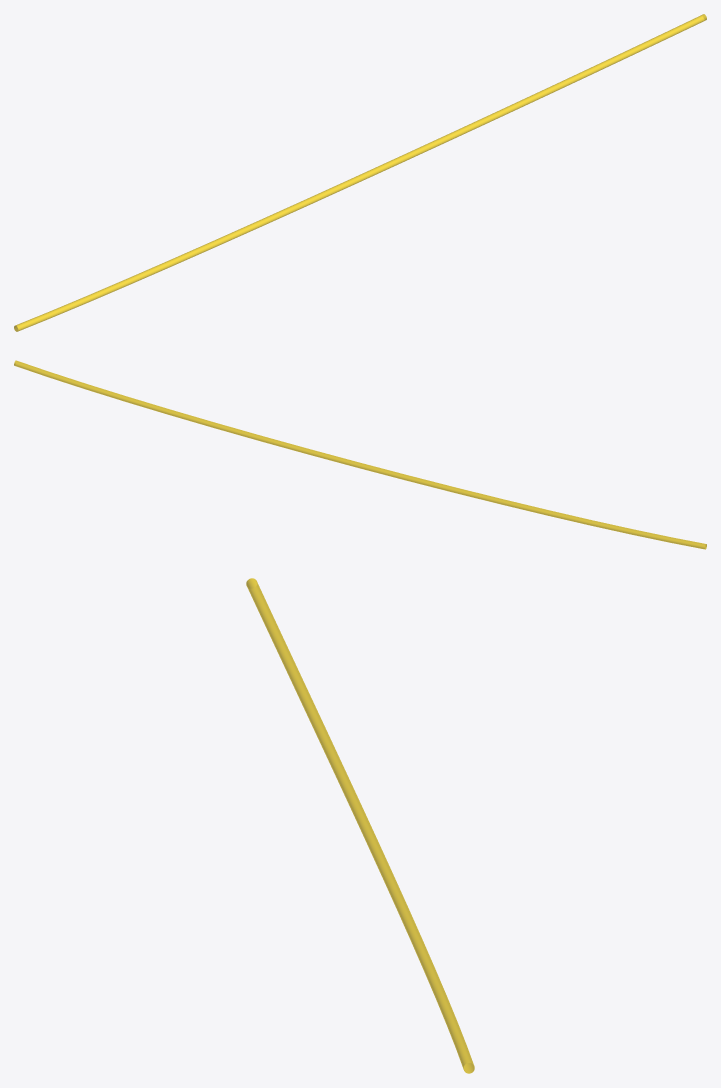
File: Event_31209032_track_17.fbx
3 views of the same model, one above another, from view 1: azimuth 30°, elevation 25°; view 2: azimuth 150°, elevation 25°; view 3: azimuth 270°, elevation 25° (orthographic). The views are drawn at different scales.
Visible parts, largest first — view 1: Model; view 2: Model; view 3: Model.
Part boxes in pixels (box(x1,y1,x2,y2)): Model: box(14, 14, 706, 331); Model: box(14, 360, 706, 549); Model: box(246, 578, 474, 1073).
Bounding box in the file's own units: 5.19 × 0.5709 × 0.8064.
